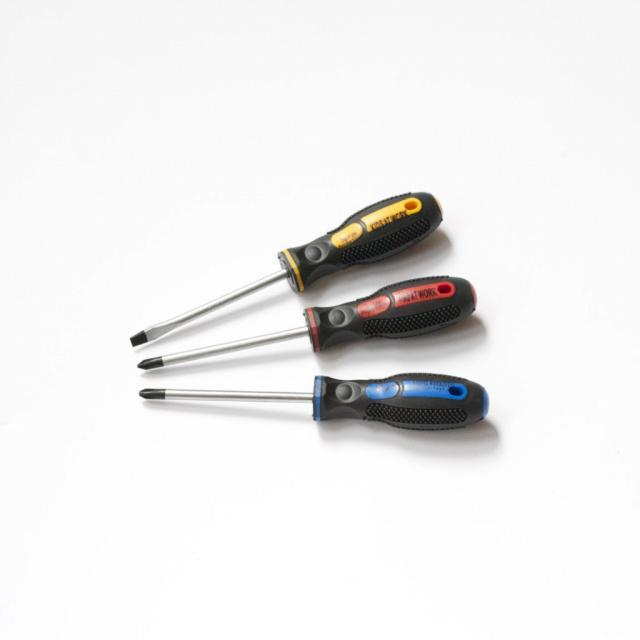screwdriver: (121, 184, 446, 356), (132, 271, 485, 371), (138, 370, 494, 431)
